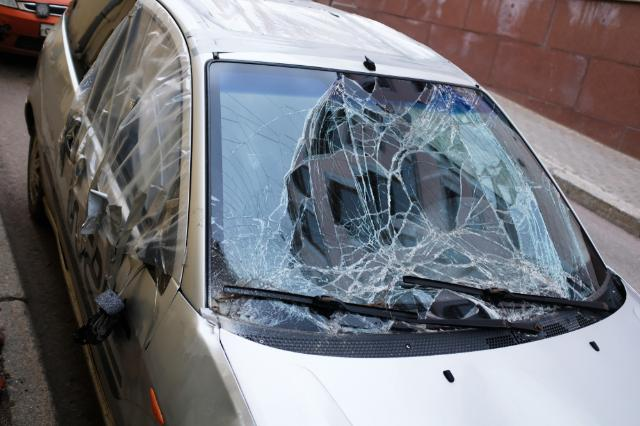glass shatter: (210, 62, 606, 335)
